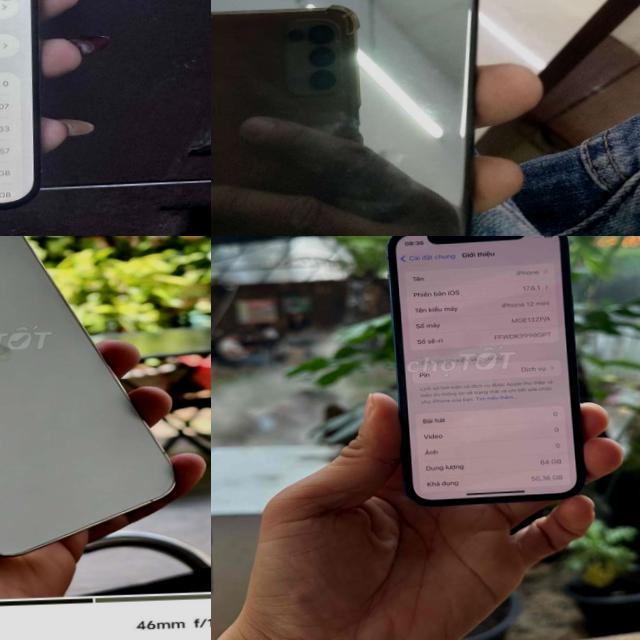gen_12_13: (377, 236, 598, 512), (0, 236, 181, 567)
gen_15: (0, 0, 53, 221)
gen_x_xs: (211, 0, 479, 236)
